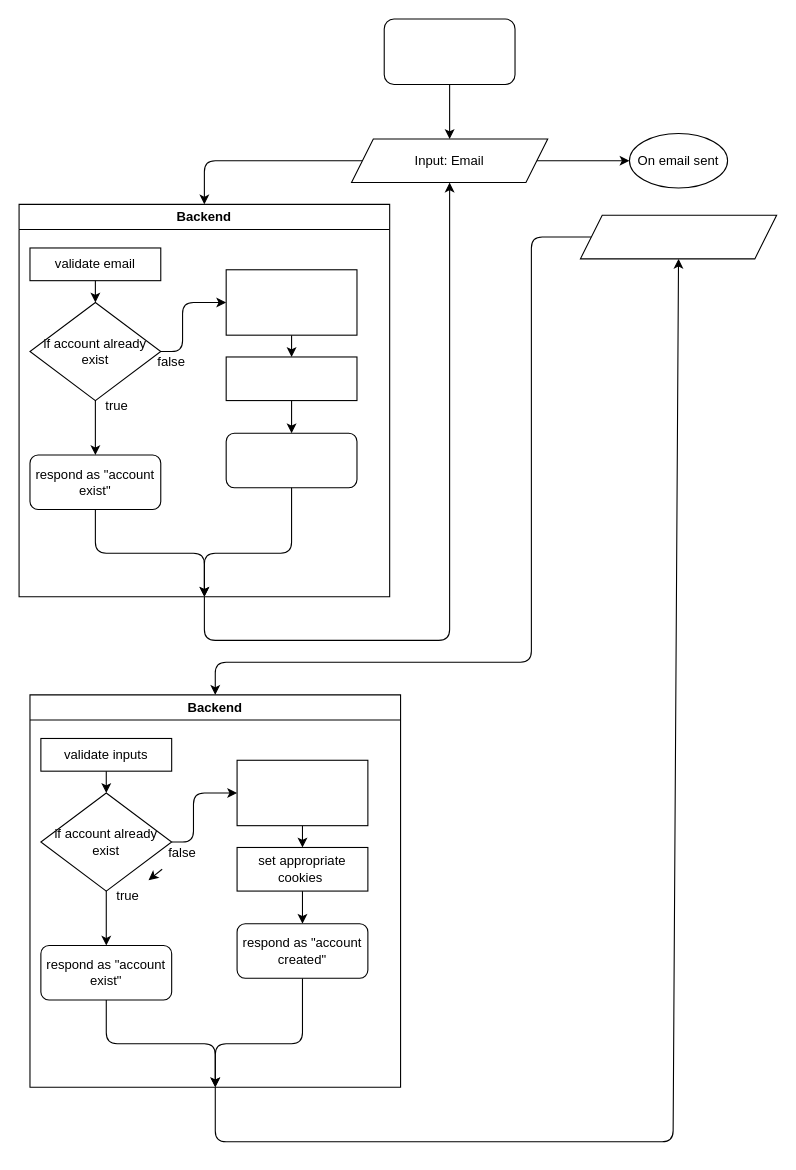
The diagram is 796 pixels wide and 1170 high, and some of its shapes have lost their labels. Here are the shapes that lost their labels. From the top down, the centre of each, then its label:
(449,51): Sign Up
(678,236): Input: username, password
(291,302): generate token for verifying new email
(291,378): send email verification
(291,460): respond as "email sent"
(302,792): create account with email, username, password
